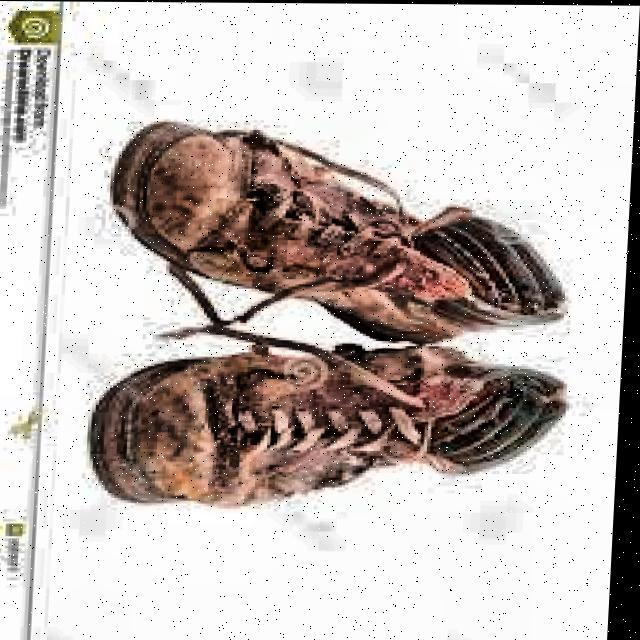shoes: (77, 112, 585, 512)
